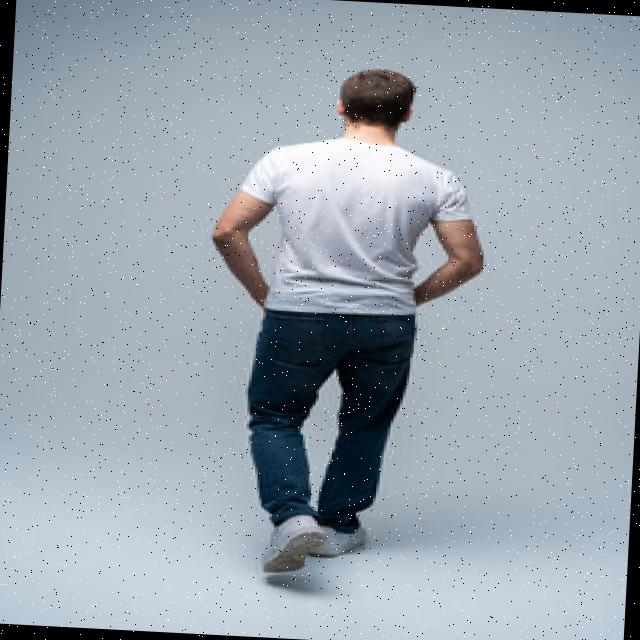Person: (194, 63, 494, 583)
